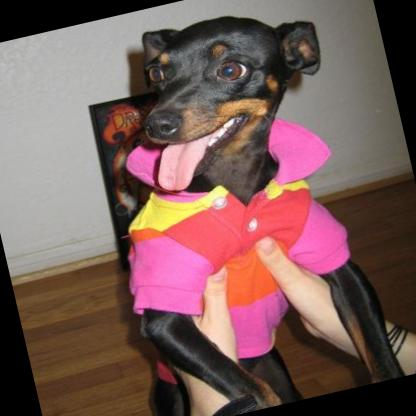miniature_pinscher: (60, 0, 400, 416)
